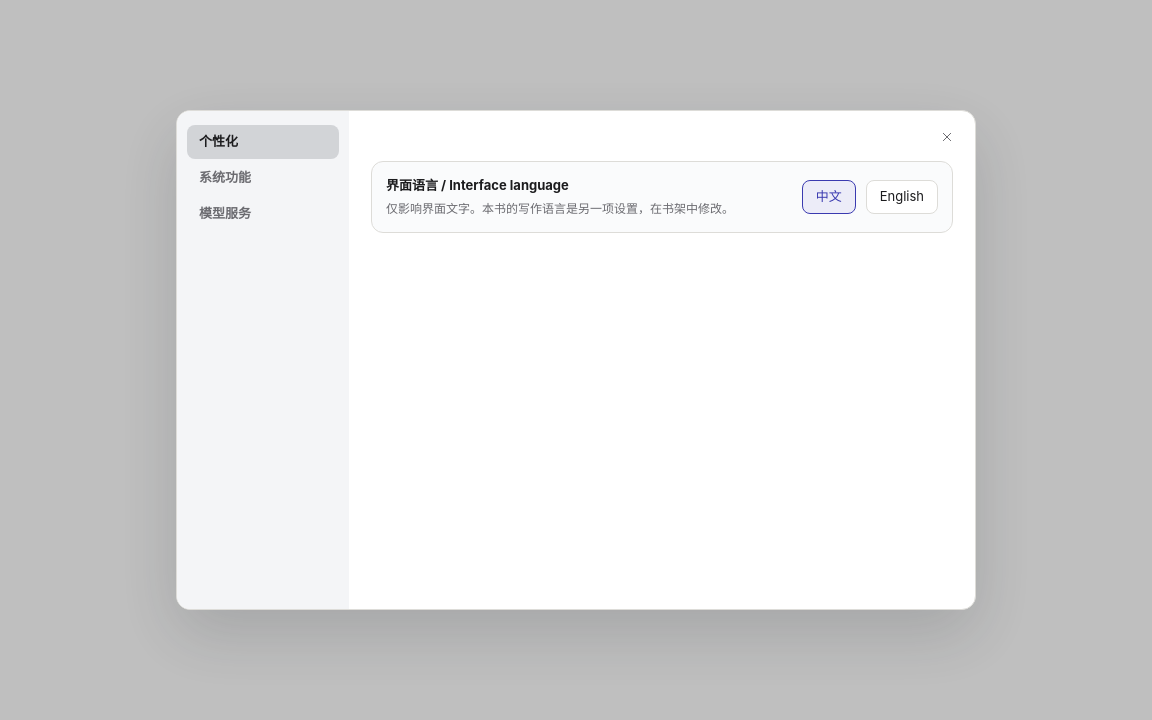
Scenario: AI 设置（BYOK） › 已经设过的那把：框里是一排点，而**那儿没有眼睛**
Click the tab "模型服务" at (263, 214), box x1=187 y1=197 x2=339 y2=231
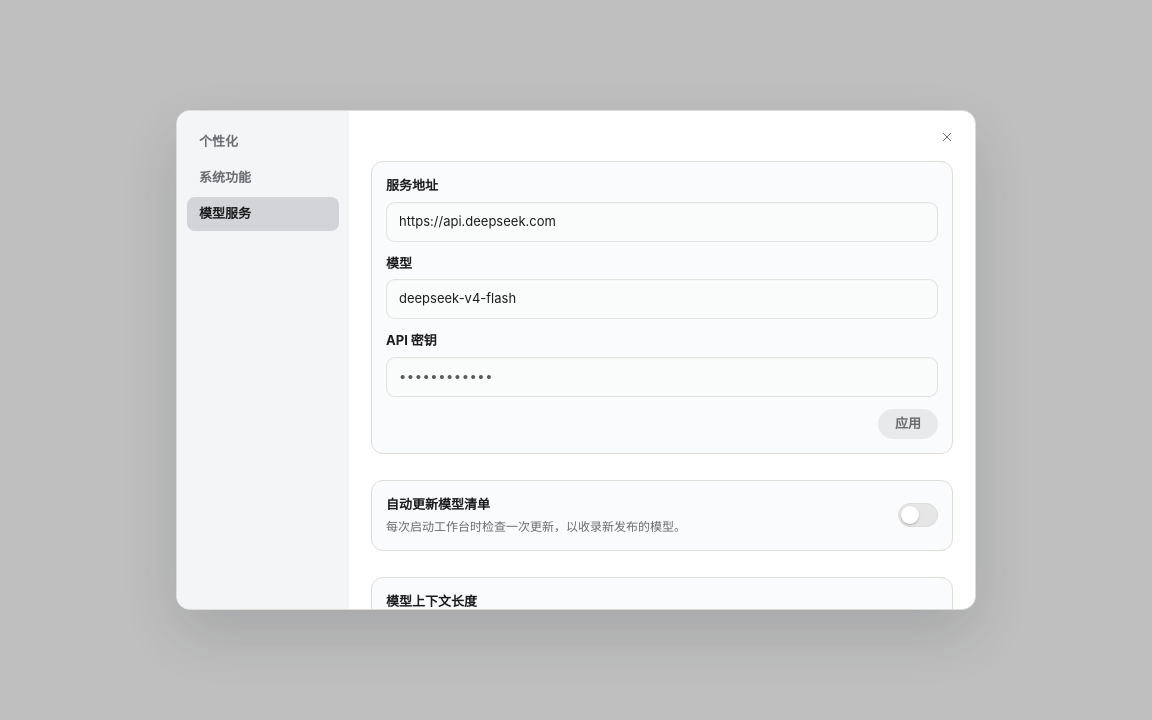
Check: the field showing "deepseek-v4-flash" is shown, box x1=386 y1=279 x2=938 y2=319
Check: the password field labelled "API 密钥" is empty
Type "sk-new-key" into the password field labelled "API 密钥" at (662, 376), box x1=386 y1=356 x2=938 y2=396
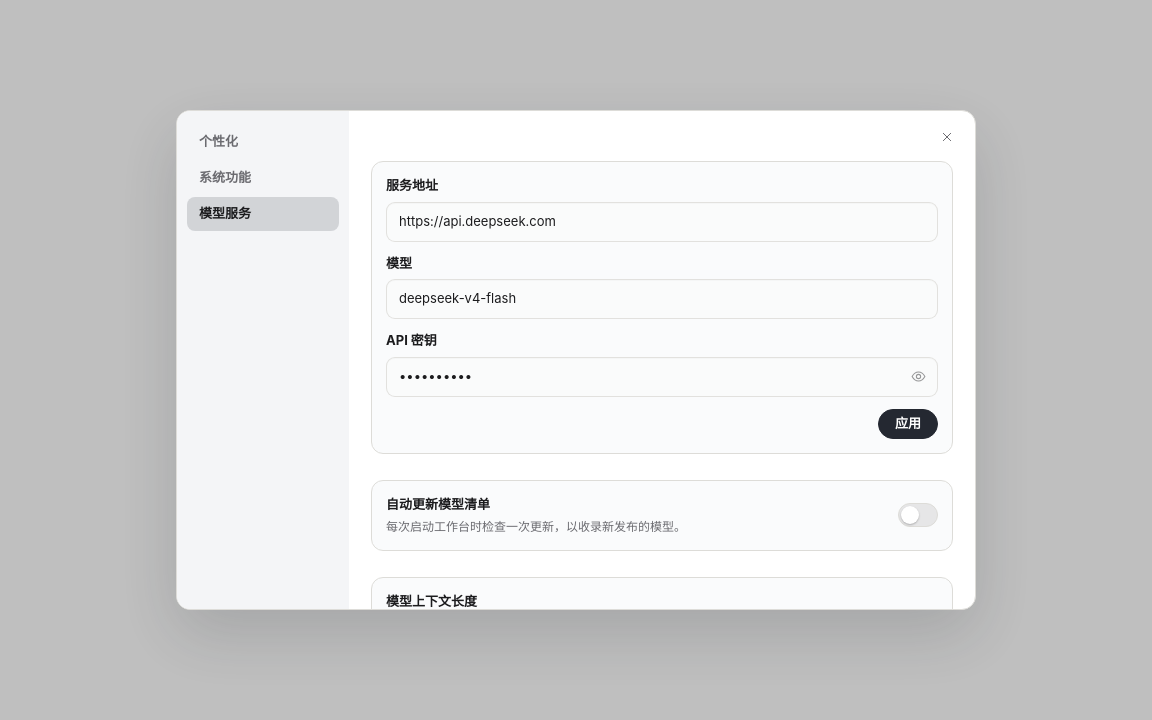
Click the button named "显示密钥" at (918, 376), box x1=904 y1=362 x2=932 y2=390
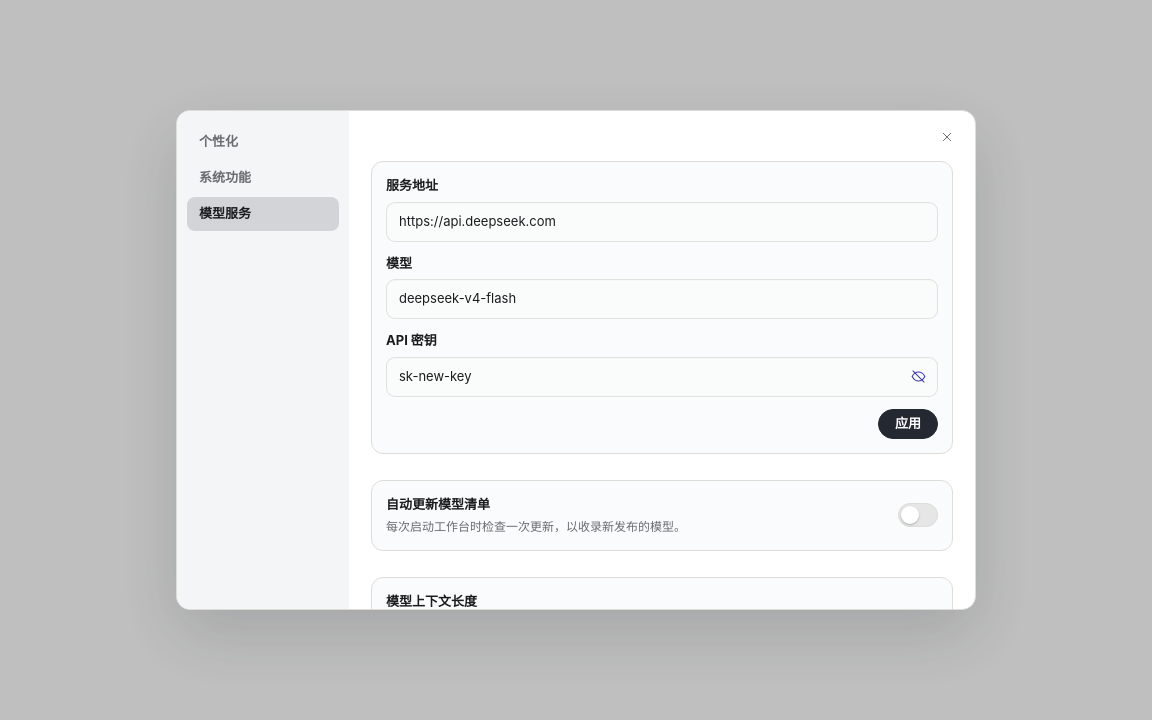
Check: the field labelled "API 密钥" shows its text, box x1=386 y1=356 x2=938 y2=396
Click the button named "隐藏密钥" at (918, 376), box x1=904 y1=362 x2=932 y2=390
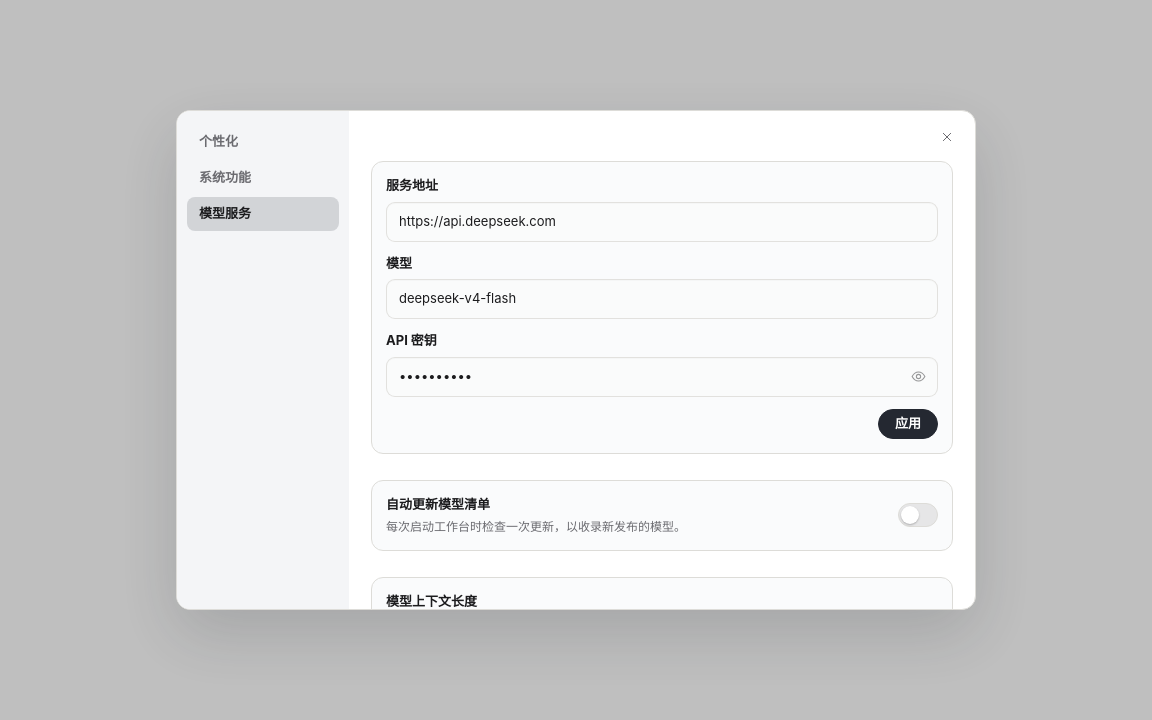
Check: the password field labelled "API 密钥" hides its text, box x1=386 y1=356 x2=938 y2=396
